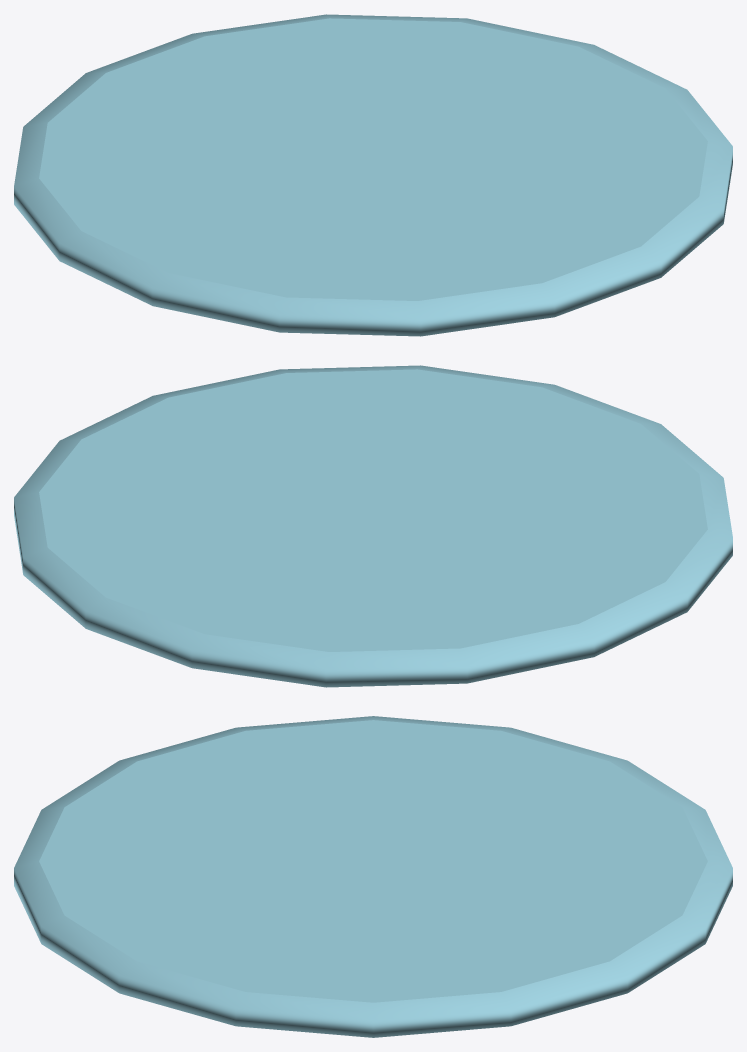
Rendered from round platform.fbx.
The picture shows the model from 3 angles, top to bottom: view 1: azimuth 30°, elevation 25°; view 2: azimuth 150°, elevation 25°; view 3: azimuth 270°, elevation 25°; orthographic projection.
Parts seen in each view (by area): view 1: Cylinder; view 2: Cylinder; view 3: Cylinder.
Part boxes in pixels (<box>): Cylinder: <box>14,14,732,336</box>; Cylinder: <box>14,365,732,687</box>; Cylinder: <box>14,716,732,1037</box>.
Bounding box in the file's own units: 1941 × 102 × 1941.
